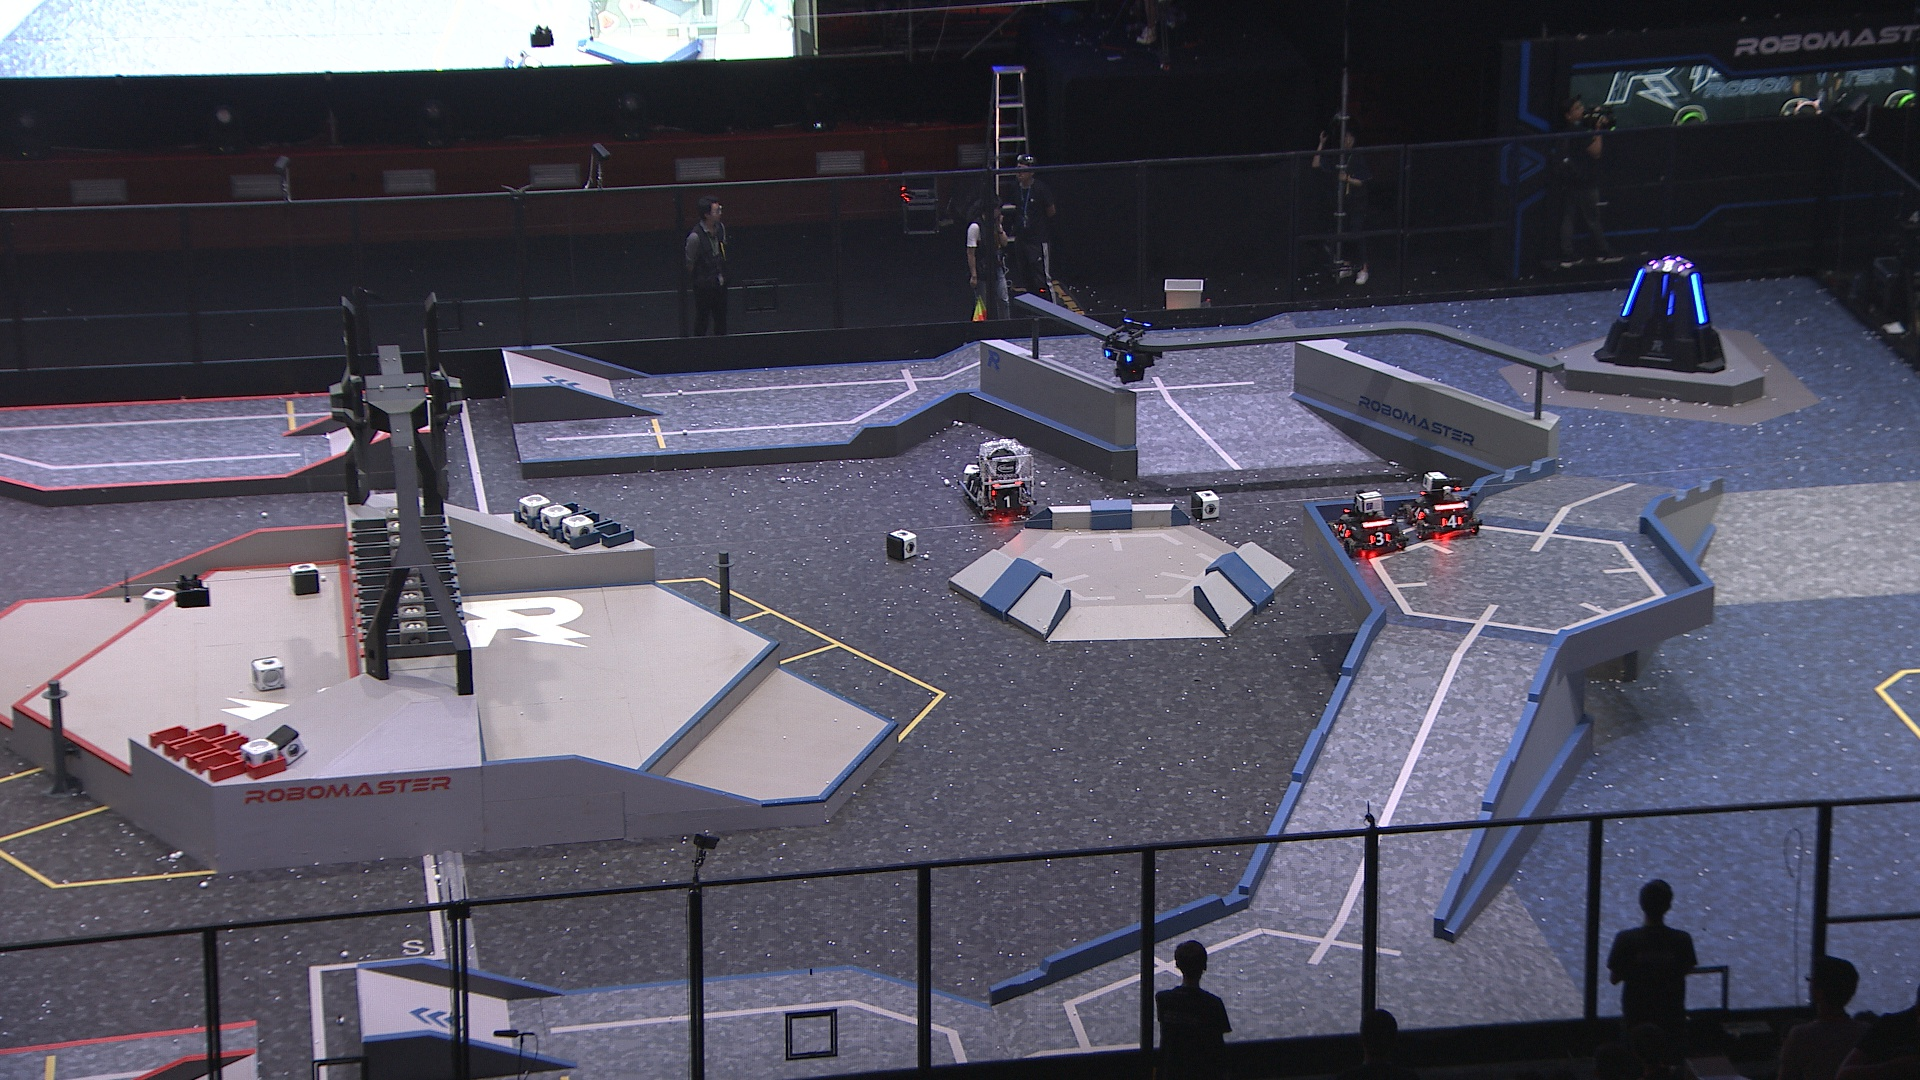armor: (1618, 266, 1643, 319), (1689, 270, 1709, 324), (1102, 348, 1135, 365), (1436, 512, 1461, 529), (993, 493, 1017, 510), (964, 473, 982, 495), (1367, 531, 1391, 547), (1408, 505, 1427, 524), (1660, 272, 1671, 301), (1337, 522, 1352, 541)
base: (1590, 251, 1726, 373)
car: (953, 436, 1035, 520), (1396, 467, 1481, 543), (1328, 487, 1408, 559)
ignore: (1648, 257, 1684, 272)
watcher: (1098, 315, 1163, 386)
